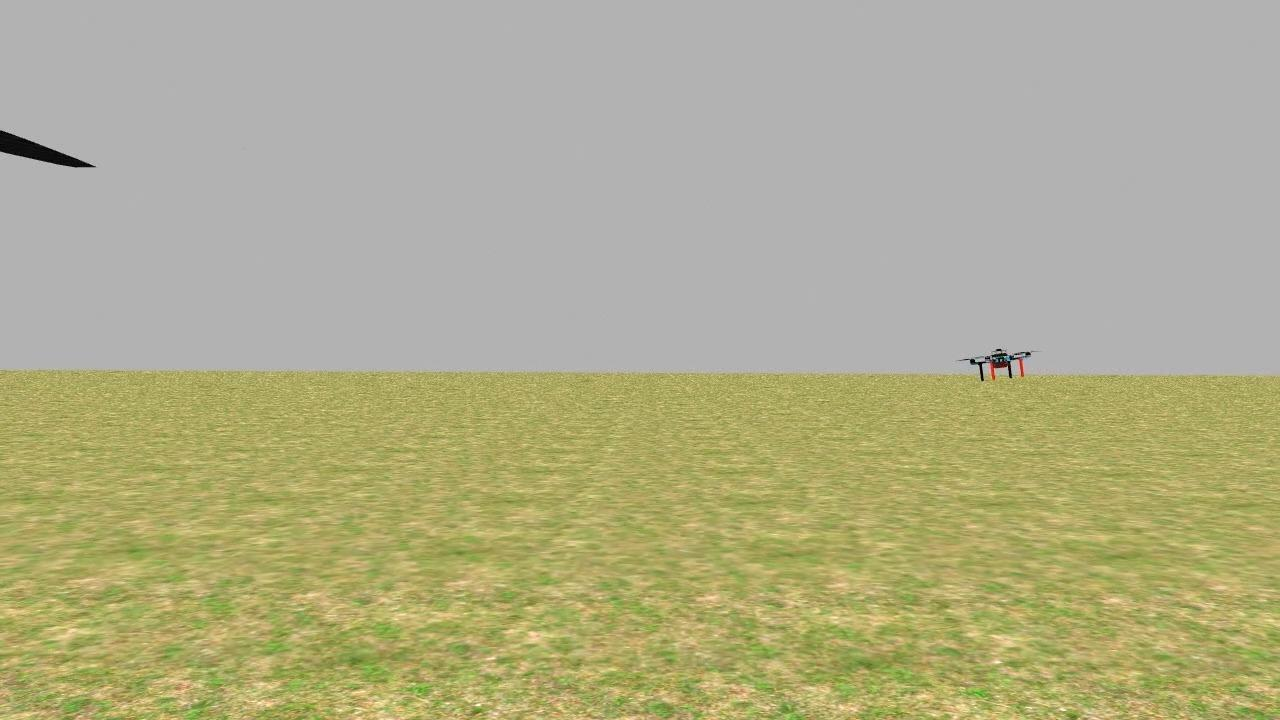UAV: (960, 337, 1042, 390)
